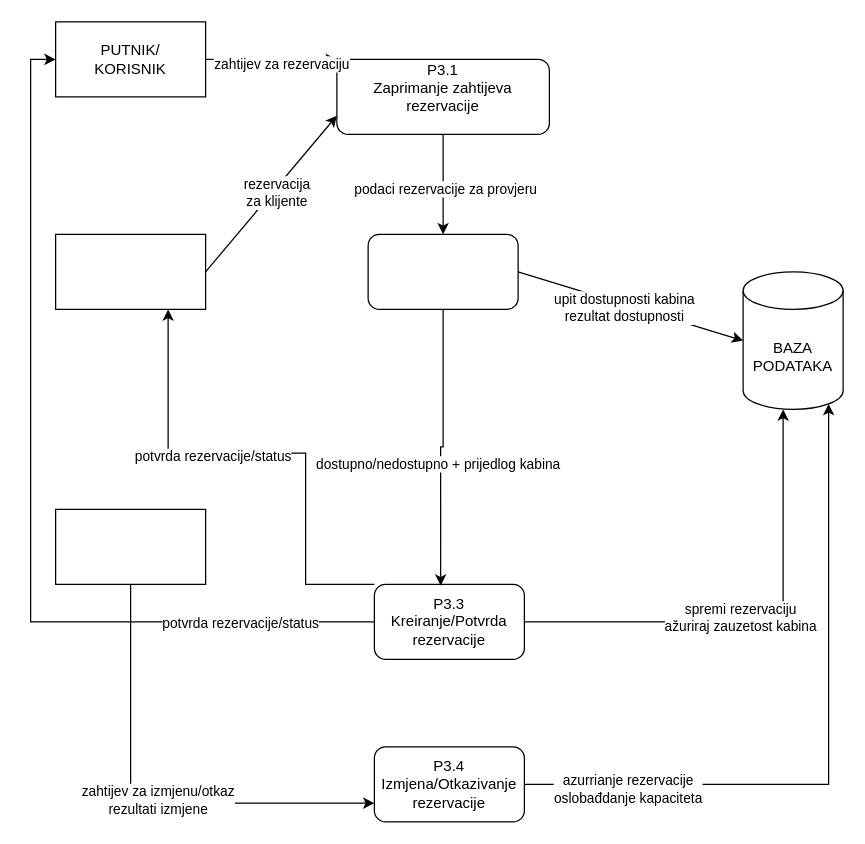
The diagram is 865 pixels wide and 844 high, and some of its shapes have lost their labels. Each missing label, with the centre of its shape:
"ADMINISTRATOR/ OPERATER" goes at [130,546].
"P3.2 provjera dostupnosti kabina" goes at [442,271].
"TURISTIČKA AGENCIJA/ PARTNER" goes at [130,271].
